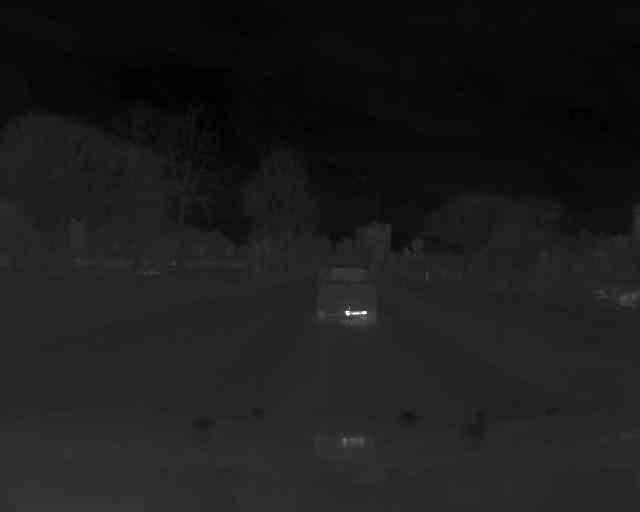car: (310, 265, 380, 326)
